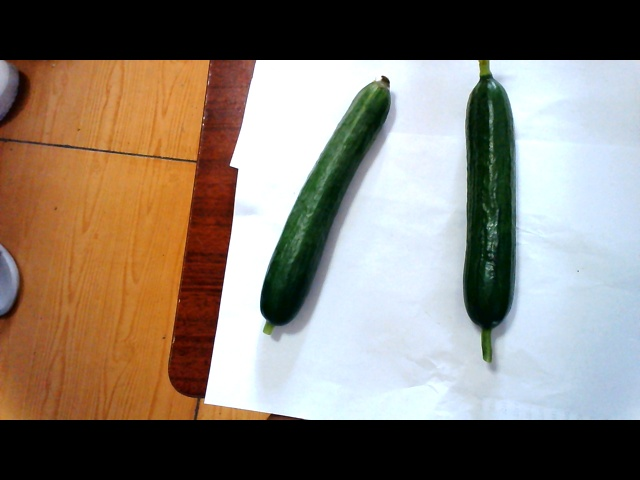cucumber: (252, 68, 386, 344), (445, 76, 532, 362)
